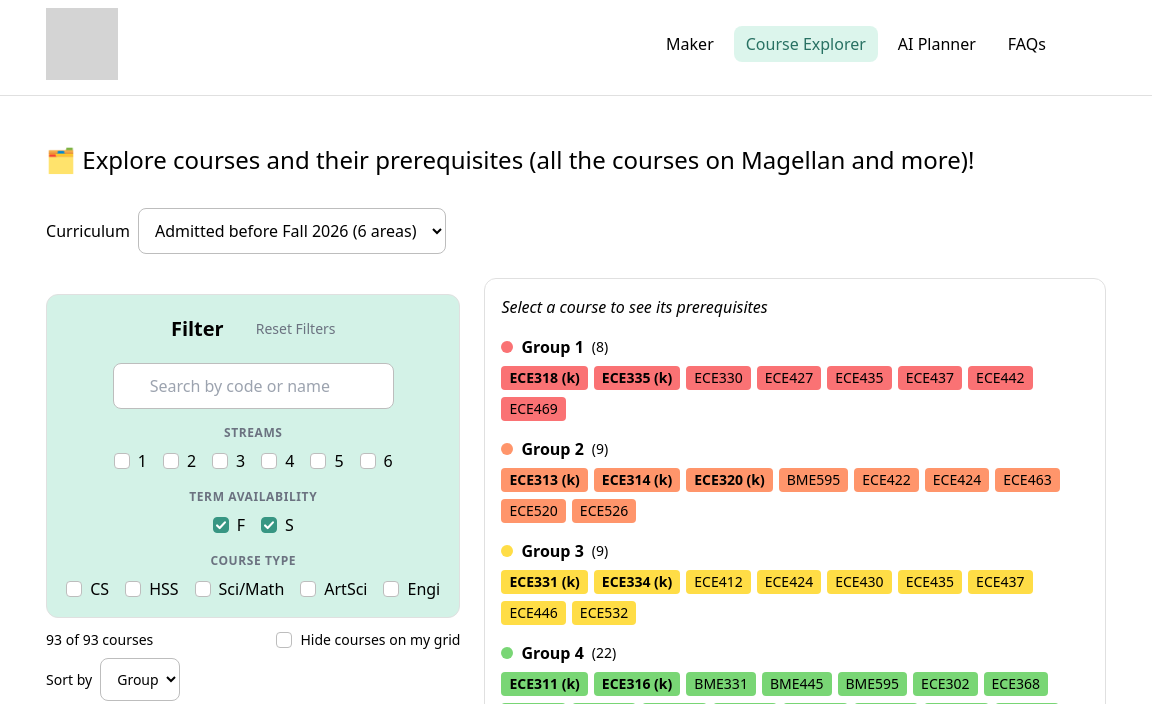
Test: Courses page › searches by course name correctly
This screenshot has width=1152, height=704.
Type "electronics" into the field with placeholder "Search by code or name".
click(253, 386); type("electronics")  # box [113,363,394,409]
(page scrolled)
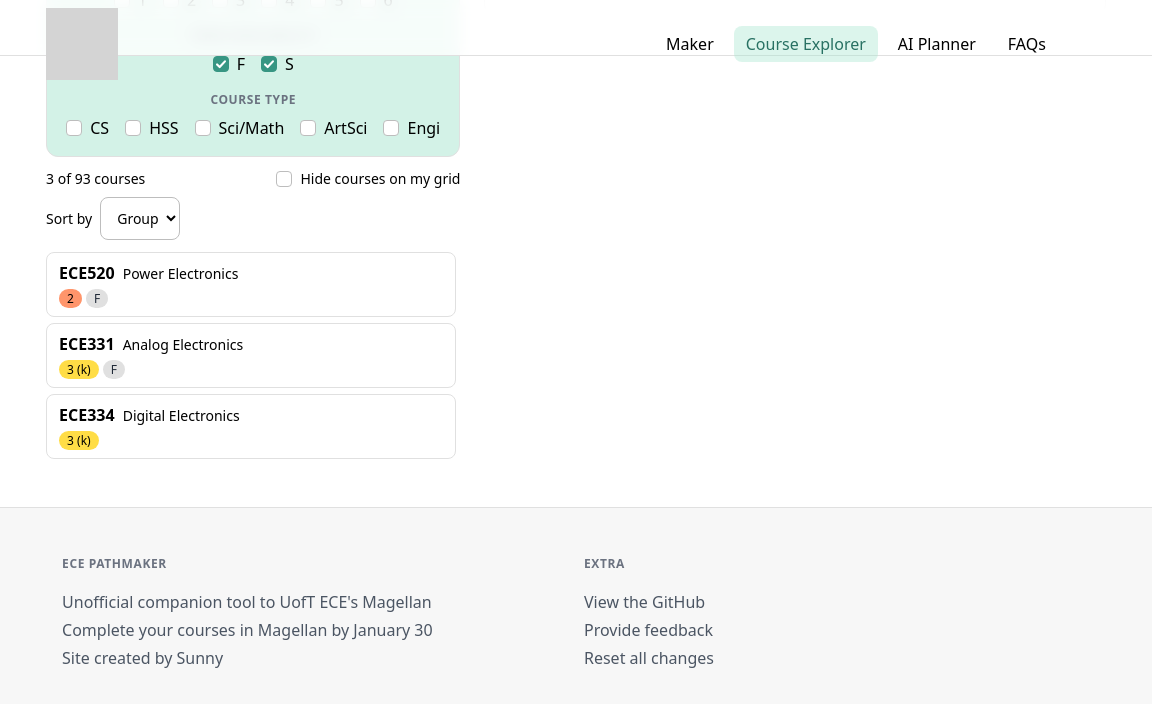
Now the text "Analog Electronics" is shown, box [123,335,243,354]
Now the text "Digital Electronics" is shown, box [123,406,240,425]
